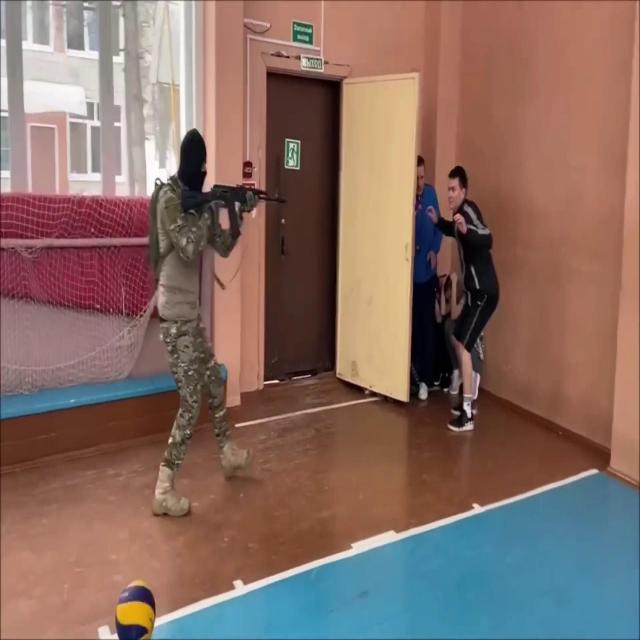pistol: (180, 180, 290, 243)
